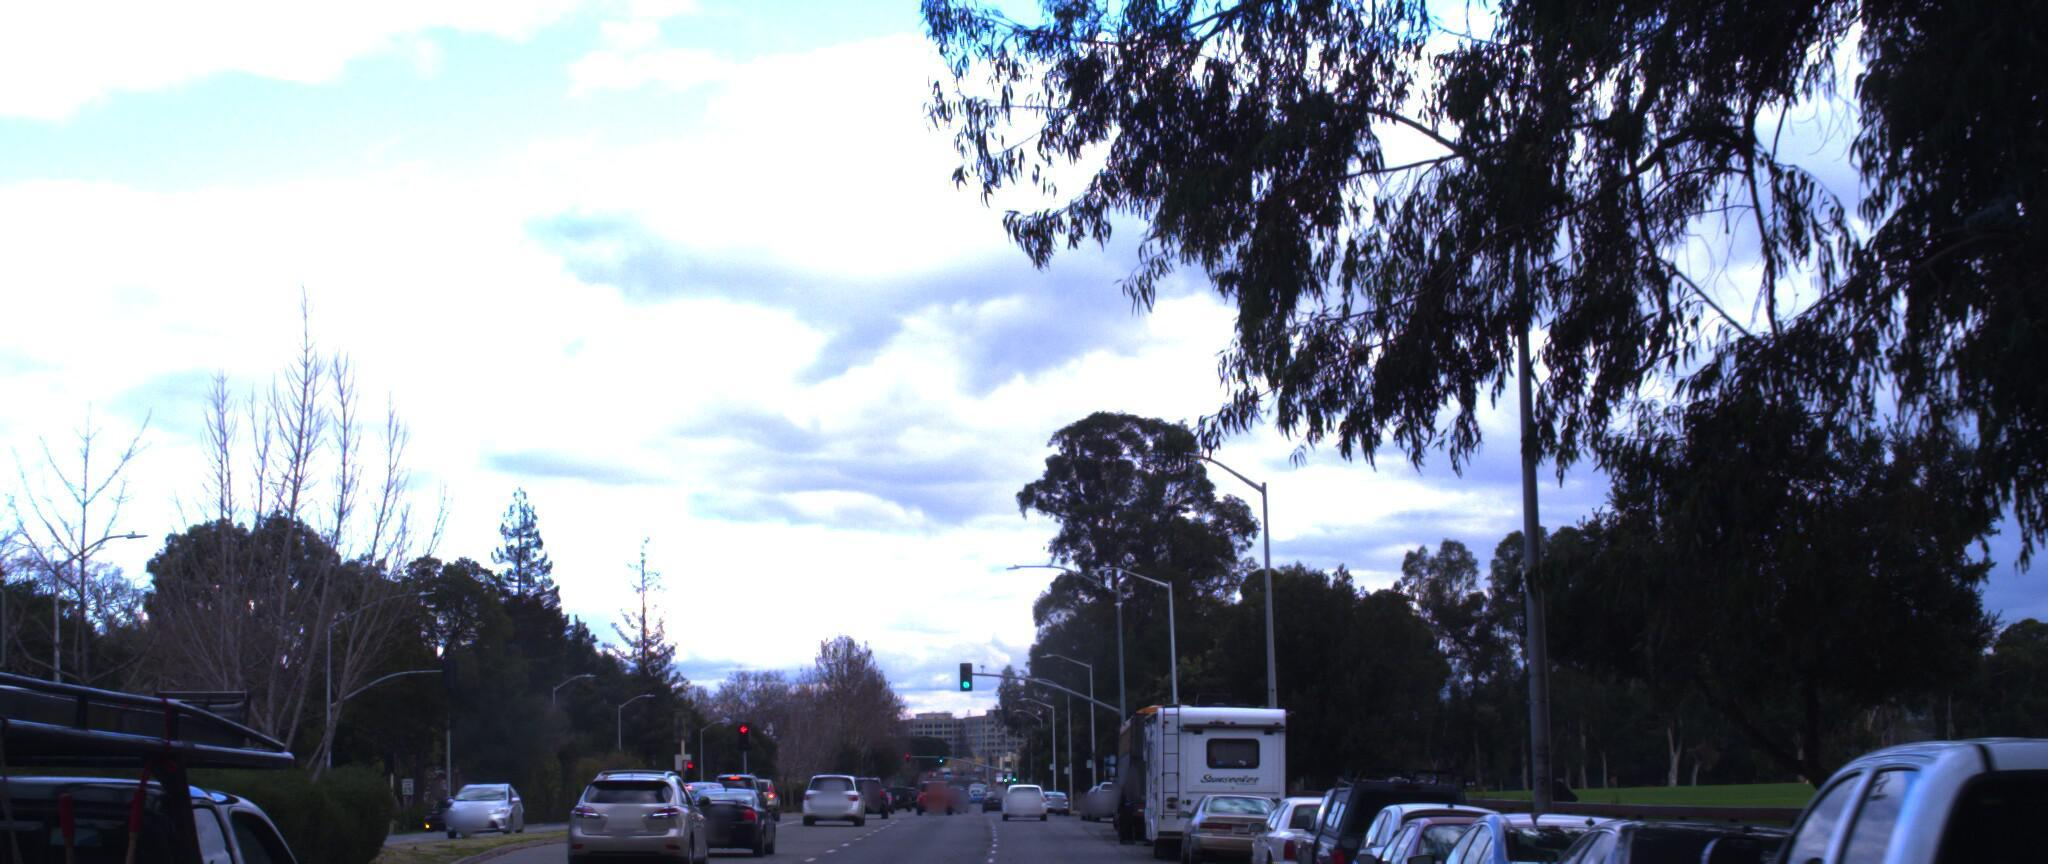bus: (1112, 689, 1240, 824)
car: (0, 397, 441, 864), (1597, 696, 2048, 864), (1430, 790, 2004, 864), (1370, 784, 1738, 864), (1277, 737, 1473, 864), (1310, 760, 1533, 864), (1328, 788, 1587, 864), (566, 749, 714, 864), (1234, 773, 1408, 864), (1174, 769, 1284, 855), (675, 760, 780, 842), (441, 750, 536, 813)
other_vehicle: (1135, 677, 1302, 847)
